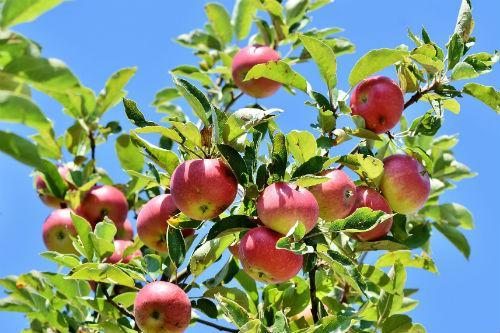apple: (168, 159, 238, 221), (235, 225, 305, 283), (258, 180, 319, 236), (349, 75, 404, 136), (136, 192, 187, 254), (133, 279, 192, 331), (380, 155, 430, 216), (231, 44, 285, 97), (306, 170, 357, 220), (79, 183, 129, 228), (43, 207, 87, 255)
